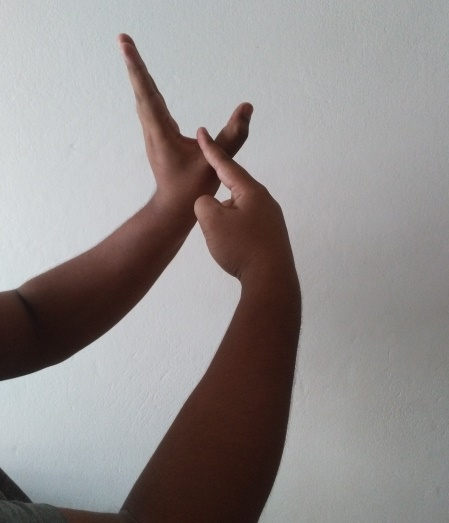dh: (112, 28, 298, 283)
